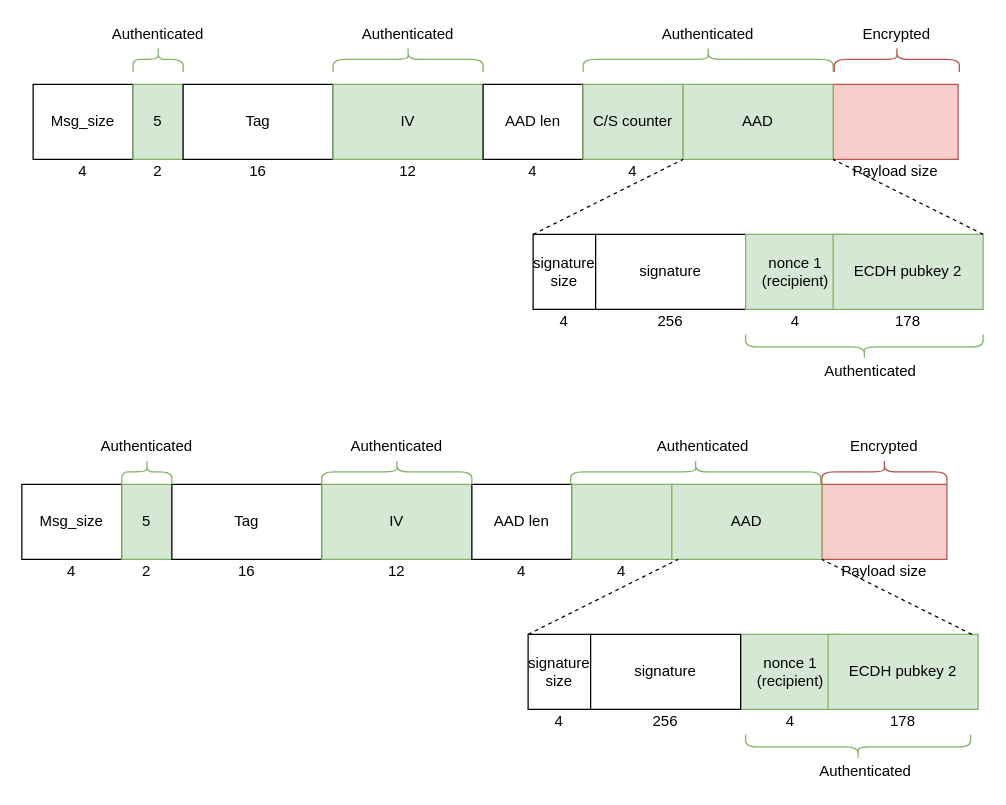
The diagram is 1006 pixels wide and 805 high, and some of its shapes have lost their labels. Here are the shapes that lost their labels. From the top down, the centre of each, then its label:
(x=895, y=121): Recipient
(x=621, y=521): Server counter
(x=884, y=521): Sender
